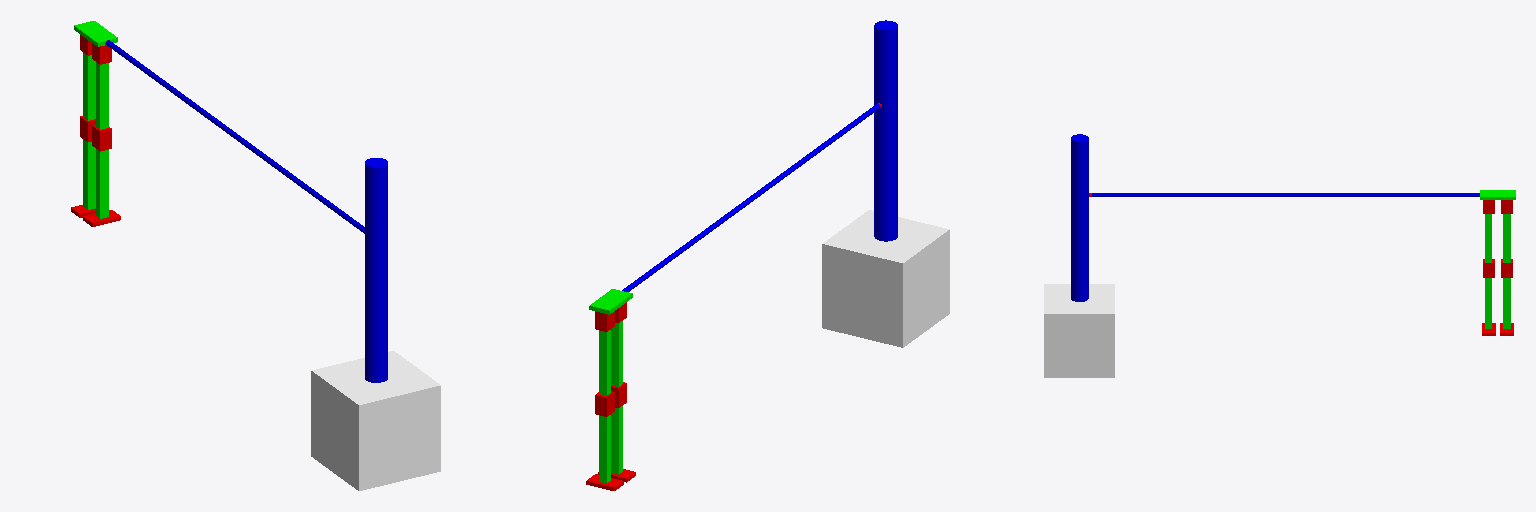
robot.urdf — BipedalRobot:
<?xml version="1.0"?>

<robot name="BipedalRobot">
  <link name="world_frame">
    <visual>
      <geometry>
         <box size=".2 .2 .2" />
      </geometry>
      <material name="blue">
	       <color rgba="1 1 1 1" />
      </material>
    </visual>
  </link>

  <joint name="world_to_base_boom_joint" type="prismatic">
    <parent link="world_frame" />
    <child link="base_boom_link" />
    <axis xyz="1 0 0" /> 
    <origin xyz="0 0 0" rpy="0 0 0"/>
  </joint>

  <link name="base_boom_link">
    <visual>
      <origin xyz="0 0 0.3" rpy="0 0 0" />
      <geometry>
         <cylinder length="0.6" radius="0.025"/>
      </geometry>
      <material name="blue">
	       <color rgba="0 0 1 1" />
      </material>
    </visual>
  </link>

  <joint name="base_boom_to_link_boom_joint_z" type="fixed">
    <parent link="base_boom_link" />
    <child link="small_link_boom" />
    <!--<axis xyz="0 0 1" />-->
    <origin xyz="0 0 0.4225" rpy="0 0 0"/>
    <dynamics damping="0" />
  </joint>

  <link name="small_link_boom">
    <inertial>
      <origin xyz="0 0.3 0" rpy="0 0 0" />
      <mass value="0" />
      <inertia ixx="0" ixy="0" ixz="0" iyy="0" iyz="0" izz="0" />
    </inertial> 
     <visual>
      <origin xyz="0 0.03 0" rpy="0 0 0" />
      <geometry>
         <box size=".01 0.01 .005" />
      </geometry>
      <material name="red">
	       <color rgba="1 0 0 1" />
      </material>
    </visual>
  </link>

  <joint name="base_boom_to_link_boom_joint_x" type="prismatic">
    <parent link="small_link_boom" />
    <child link="boom_link" />
    <axis xyz="0 0 1" />
    <origin xyz="0 0.035 0" rpy="0 0 0"/>
    <dynamics damping="0" />
  </joint>

  <link name="boom_link">
    <inertial>
      <origin xyz="0 0.3 0" rpy="0 0 0" />
      <mass value="0" />
      <inertia ixx="0" ixy="0" ixz="0" iyy="0" iyz="0" izz="0" />
    </inertial>
     <visual>
      <origin xyz="0 0.5475 0" rpy="1.57079 0 0" />
      <geometry>
         <cylinder length="1.095" radius="0.006"/>
      </geometry>
      <material name="blue">
	       <color rgba="0 0 1 1" />
      </material>
    </visual>
  </link>
    <!--
  <joint name="boom_to_hip_joint" type="revolute">
    <parent link="boom_link" />
    <child link="hips_link" />
    <axis xyz="0 1 0" />
    <origin xyz="0 1.145 0" rpy="0 0 0"/>
    <dynamics damping="0" />
  </joint>
-->

  <joint name="boom_to_hip_joint" type="fixed">
    <parent link="boom_link" />
    <child link="hips_link" />
    <origin xyz="0 1.145 0" rpy="0 0 0"/>
  </joint>

  <link name="hips_link">
    <inertial>
      <origin xyz="0 0.0 0" rpy="0 0 0" />
      <mass value="0.00625" />
      <inertia ixx="5.2604166666667e-6" ixy="0" ixz="0" iyy="1.3541666666667e-6" iyz="0" izz="6.5104166666667e-6" />
    </inertial>
     <visual>
      <origin xyz="0 .00 0" rpy="0 0 0" />
      <geometry>
         <box size=".05 .1 .01" />
      </geometry>
      <material name="green">
	       <color rgba="0 1 0 1" />
      </material>
    </visual>
  </link>

  <joint name="l_hip_to_motor" type="fixed">
    <parent link="hips_link" />
    <child link="l_hip_motor" />
    <origin xyz="0 .026 -0.04025" rpy="0 0 0"/>
  </joint>

  <link name="l_hip_motor">
    <inertial>
      <origin xyz="0 .0 0.012" rpy="0 0 0" />
      <mass value="0.083" />
      <inertia ixx=" 5.96686e-5" ixy="-8.14034e-8" ixz="1.30798e-7" iyy="5.68819e-5" iyz="-1.96593e-6" izz="4.90513e-5" />
    </inertial>
    <visual>
      <origin xyz="0 0 0.012" rpy="0 0 0" />
      <geometry>
         <box size=".0285 .034 .0465 " />
      </geometry>
      <material name="red">
	       <color rgba="1 0 0 1" />
      </material>
    </visual>
  </link>

  <joint name="l_hip" type="revolute">
    <parent link="l_hip_motor" />
    <child link="l_thigh_link" />
    <origin xyz="0 0 0" rpy="0 0 0" />
    <axis xyz="0 1 0" />
    <limit effort="3.4" lower="-1.57" upper="1.57" velocity="3.1415"/>
     <dynamics damping="1" />
    <safety_controller k_velocity="10" k_position="15" soft_lower_limit="-2.0" soft_upper_limit="0.5" />
  <!----></joint>

  <link name="l_thigh_link">
    <inertial>
      <origin xyz="0 0 -.088625" rpy="0 0 0" />
      <mass value=".118" />
      <inertia ixx="2.39417e-4" ixy="0" ixz="0" iyy="2.39417e-4" iyz="0" izz="7.867e-6" />
    </inertial>
    <visual>
      <origin xyz="0 0 -.088625" rpy="0 0 0" />
      <geometry>
         <box size=".02 .02 .15475" />
      </geometry>
      <material name="green">
	       <color rgba="0 1 0 1" />
      </material>
    </visual>
  </link>

  <joint name="l_thigh_link_to_motor" type="fixed">
    <parent link="l_thigh_link" />
    <child link="l_thigh_motor" />
    <origin xyz="0 0 -0.20125 " rpy="0 0 0"/>
  </joint>

  <link name="l_thigh_motor">
    <inertial>
      <origin xyz="0 0 0.012" rpy="0 0 0" />
      <mass value="0.083" />
      <inertia ixx="5.9855e-5" ixy="-7.46977e-8" ixz="1.208e-7" iyy=" 5.70714e-5" iyz="-1.92993e-6" izz="4.91179e-5" />
    </inertial>
    <visual>
      <origin xyz="0 0 0.012" rpy="0 0 0" />
      <geometry>
         <box size=".0285 .034 .0465 " />
      </geometry>
      <material name="red">
	       <color rgba="1 0 0 1" />
      </material>
    </visual>
  </link>

  <joint name="l_knee" type="revolute">
    <parent link="l_thigh_motor" />
    <child link="l_leg_link" />
    <origin xyz="0 0 0.0" />
    <axis xyz="0 1 0" />
    <limit effort="2.5" lower="-1.57" upper="1.57" velocity="5.23"/>
    <dynamics damping="1" />
    <safety_controller k_velocity="10" k_position="15" soft_lower_limit="-2.0" soft_upper_limit="0.5" />
  <!----></joint>


  <link name="l_leg_link">
    <inertial>
      <origin xyz="0 0 -0.091625" rpy="0 0 0" />
      <mass value="0.1" />
      <inertia ixx="2.18671e-4" ixy="0" ixz="0" iyy="2.18671e-4" iyz="0" izz="6.667e-6" />
    </inertial>
    <visual>
      <origin xyz="0 0 -0.091625" rpy="0 0 0" />
      <geometry>
         <box size=".02 .02 .16075" />
      </geometry>
      <material name="green">
	       <color rgba="0 1 0 1" />
      </material>
    </visual>
  </link>

  <joint name="l_ankle" type="revolute">
    <parent link="l_leg_link" />
    <child link="l_foot_link" />
    <origin xyz="0 0 -.172" />
    <axis xyz="0 1 0" />
    <limit effort="1000.0" lower="-0.785" upper="0.785" velocity="5.26"/>
    <dynamics damping="10" />
    <safety_controller k_velocity="10" k_position="15" soft_lower_limit="-2.0" soft_upper_limit="0.5" />
  <!---->
  </joint>


  <link name="l_foot_link">
    <inertial>
      <origin xyz="0 0 -0.0045" rpy="0 0 0" />
      <mass value="0.041" />
      <inertia ixx="5.7434e-6" ixy="0" ixz="0" iyy="1.7018e-5" iyz="0" izz="2.2208e-5" />
    </inertial>
    <visual>
      <origin xyz="0 0 -0.0045" rpy="0 0 0" />
        <geometry>
            <box size=".07 .04 0.009" />
        </geometry>
      <material name="red">
	       <color rgba="1 0 0 1" />
      </material>
    </visual>

  </link>
    <joint name="r_hip_to_motor" type="fixed">
    <parent link="hips_link" />
    <child link="r_hip_motor" />
    <origin xyz="0 -.026 -0.04025" rpy="0 0 0"/>
  </joint>

  <link name="r_hip_motor">
    <inertial>
      <origin xyz="0 .0 0.012" rpy="0 0 0" />
      <mass value="0.083" />
      <inertia ixx=" 5.96686e-5" ixy="-8.14034e-8" ixz="1.30798e-7" iyy="5.68819e-5" iyz="-1.96593e-6" izz="4.90513e-5" />
    </inertial>
    <visual>
      <origin xyz="0 0 0.012" rpy="0 0 0" />
      <geometry>
         <box size=".0285 .034 .0465 " />
      </geometry>
      <material name="red">
	       <color rgba="1 0 0 1" />
      </material>
    </visual>
  </link>

  <joint name="r_hip" type="revolute">
    <parent link="r_hip_motor" />
    <child link="r_thigh_link" />
    <origin xyz="0 0 0" />
    <axis xyz="0 1 0" rpy="0 0 0"/>
    <limit effort="3.4" lower="-1.57" upper="1.57" velocity="3.1415"/>
    <dynamics damping="1" />
     <safety_controller k_velocity="10" k_position="15" soft_lower_limit="-2.0" soft_upper_limit="0.5" />
  <!----></joint>

  <link name="r_thigh_link">
    <inertial>
      <origin xyz="0 0 -.088625" rpy="0 0 0" />
      <mass value=".118" />
      <inertia ixx="2.39417e-4" ixy="0" ixz="0" iyy="2.39417e-4" iyz="0" izz="7.867e-6" />
    </inertial>
    <visual>
      <origin xyz="0 0 -.088625" rpy="0 0 0" />
      <geometry>
         <box size=".02 .02 .15475" />
      </geometry>
      <material name="green">
	       <color rgba="0 1 0 1" />
      </material>
    </visual>
  </link>

  <joint name="r_thigh_link_to_motor" type="fixed">
    <parent link="r_thigh_link" />
    <child link="r_thigh_motor" />
    <origin xyz="0 0 -0.20125 " rpy="0 0 0"/>
  </joint>

  <link name="r_thigh_motor">
    <inertial>
      <origin xyz="0 0 0.012" rpy="0 0 0" />
      <mass value="0.083" />
      <inertia ixx="5.9855e-5" ixy="-7.46977e-8" ixz="1.208e-7" iyy=" 5.70714e-5" iyz="-1.92993e-6" izz="4.91179e-5" />
    </inertial>
    <visual>
      <origin xyz="0 0 0.012" rpy="0 0 0" />
      <geometry>
         <box size=".0285 .034 .0465 " />
      </geometry>
      <material name="red">
	       <color rgba="1 0 0 1" />
      </material>
    </visual>
  </link>

  <joint name="r_knee" type="revolute">
    <parent link="r_thigh_motor" />
    <child link="r_leg_link" />
    <origin xyz="0 0 0.0" />
    <axis xyz="0 1 0" />
    <limit effort="2.5" lower="-1.57" upper="1.57" velocity="5.23"/>
    <dynamics damping="1" />
      <safety_controller k_velocity="10" k_position="15" soft_lower_limit="-2.0" soft_upper_limit="0.5" />
  <!----></joint>


  <link name="r_leg_link">
    <inertial>
      <origin xyz="0 0 -0.091625" rpy="0 0 0" />
      <mass value="0.1" />
      <inertia ixx="2.18671e-4" ixy="0" ixz="0" iyy="2.18671e-4" iyz="0" izz="6.667e-6" />
    </inertial>
    <visual>
      <origin xyz="0 0 -0.091625" rpy="0 0 0" />
      <geometry>
         <box size=".02 .02 .16075" />
      </geometry>
      <material name="green">
	       <color rgba="0 1 0 1" />
      </material>
    </visual>
  </link>

  <joint name="r_ankle" type="revolute">
    <parent link="r_leg_link" />
    <child link="r_foot_link" />
    <origin xyz="0 0 -.172" />
    <axis xyz="0 1 0" />
    <limit effort="1000.0" lower="-0.785" upper="0.785" velocity="5.26"/>
    <dynamics damping="10" />
    <safety_controller k_velocity="10" k_position="15" soft_lower_limit="-2.0" soft_upper_limit="0.5" />
  <!---->
  </joint>

  <link name="r_foot_link">
    <inertial>
      <origin xyz="0 0 -0.0045" rpy="0 0 0" />
      <mass value="0.041" />
      <inertia ixx="5.7434e-6" ixy="0" ixz="0" iyy="1.7018e-5" iyz="0" izz="2.2208e-5" />
    </inertial>
    <visual>
      <origin xyz="0 0 -0.0045" rpy="0 0 0" />
        <geometry>
            <box size=".07 .04 0.009" />
        </geometry>
      <material name="red">
	       <color rgba="1 0 0 1" />
      </material>
    </visual>
  </link>
  <!-- -->
</robot>

--- Facts derived from the render (not from the file) ---
The picture shows the robot from 3 angles, left to right: view 1: azimuth 30°, elevation 25°; view 2: azimuth 150°, elevation 25°; view 3: azimuth 270°, elevation 25°; orthographic projection.
Model BipedalRobot with 15 links and 14 joints (6 revolute, 2 prismatic, 6 fixed), rooted at world_frame, posed every joint at zero.
Visible links, largest first — view 1: world_frame, base_boom_link, boom_link, r_leg_link, l_leg_link, r_thigh_link, l_thigh_link, hips_link; view 2: world_frame, base_boom_link, boom_link, l_leg_link, r_leg_link, l_thigh_link, r_thigh_link, hips_link; view 3: world_frame, base_boom_link, boom_link.
Boxes of the visible links, box(x1,y1,x2,y2) form: world_frame: box(311, 351, 440, 490); base_boom_link: box(365, 158, 387, 382); boom_link: box(105, 40, 364, 233); r_leg_link: box(96, 149, 108, 218); l_leg_link: box(83, 139, 95, 209); r_thigh_link: box(96, 62, 108, 129); l_thigh_link: box(83, 53, 95, 120); hips_link: box(74, 21, 117, 46); world_frame: box(822, 210, 949, 347); base_boom_link: box(874, 20, 897, 241); boom_link: box(622, 104, 879, 291); l_leg_link: box(599, 415, 610, 482); r_leg_link: box(611, 406, 622, 474); l_thigh_link: box(599, 330, 610, 395); r_thigh_link: box(611, 321, 622, 386); hips_link: box(589, 289, 632, 314); world_frame: box(1044, 284, 1114, 377); base_boom_link: box(1071, 134, 1088, 301); boom_link: box(1092, 193, 1479, 196).
Bounding box of the posed robot: 0.2 × 1.33 × 0.7 m (x, y, z).
Geometry: primitives only (box / cylinder / sphere), no mesh files.
